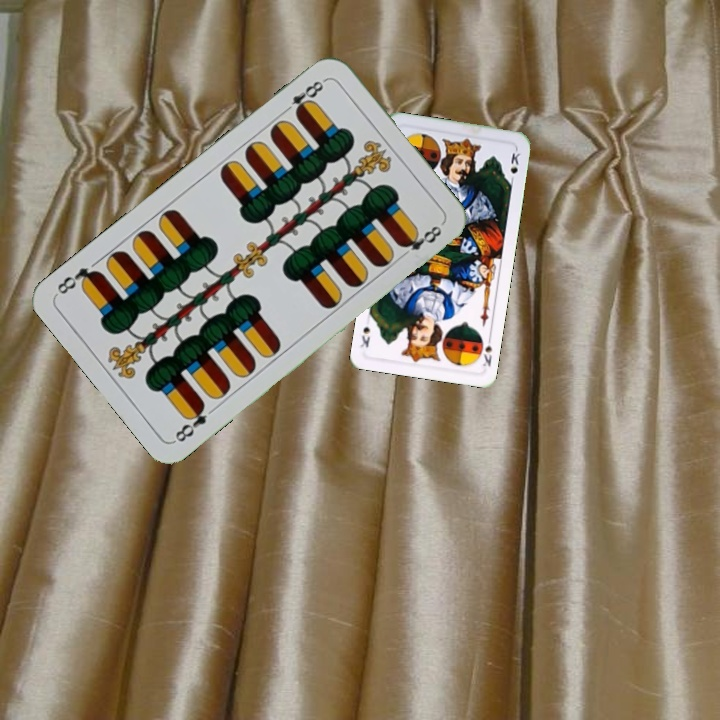E8: (279, 75, 329, 119), (170, 398, 210, 445)
SK: (478, 331, 495, 369)
